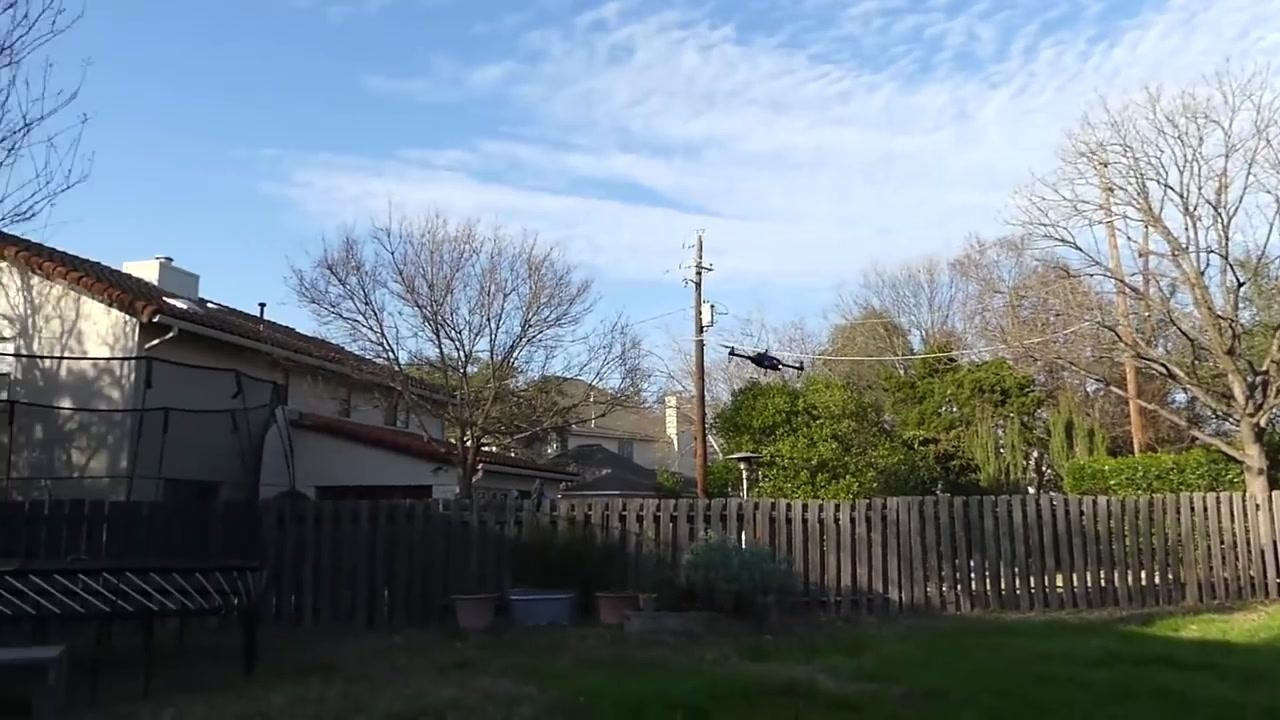UAV: (718, 345, 806, 380)
